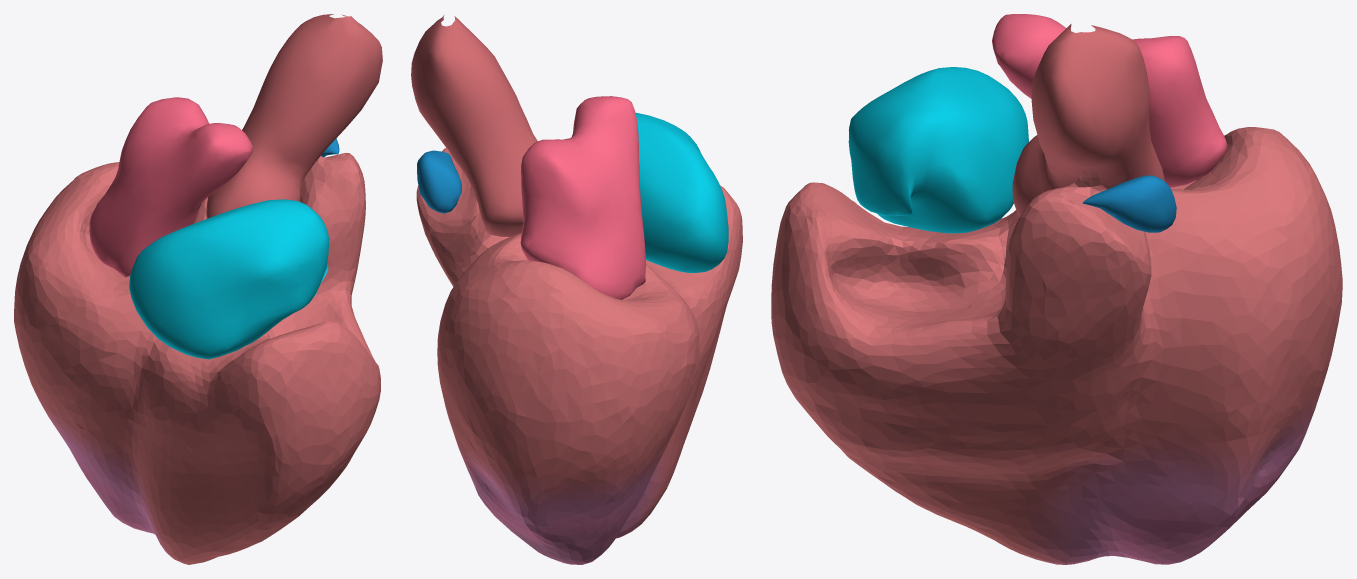
Rendered from frame_62.glb.
3 views of the same model, side by side, from view 1: azimuth 30°, elevation 25°; view 2: azimuth 150°, elevation 25°; view 3: azimuth 270°, elevation 25° (orthographic). The views are drawn at different scales.
Visible parts, largest first — view 1: Renderer Node; view 2: Renderer Node; view 3: Renderer Node.
Boxes of the visible parts, x1,y1,x2,y2 form: Renderer Node: (14,14,382,564); Renderer Node: (411,15,742,564); Renderer Node: (771,14,1342,564).
Size of the model in its own units: 102 by 158 by 129.
